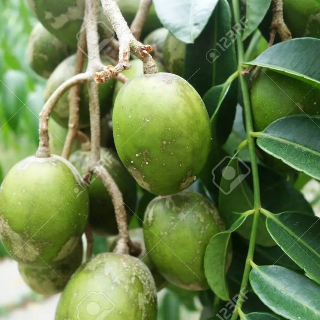coc: (113, 74, 211, 196), (2, 156, 89, 266)
